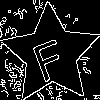F: (26, 29, 70, 83)
